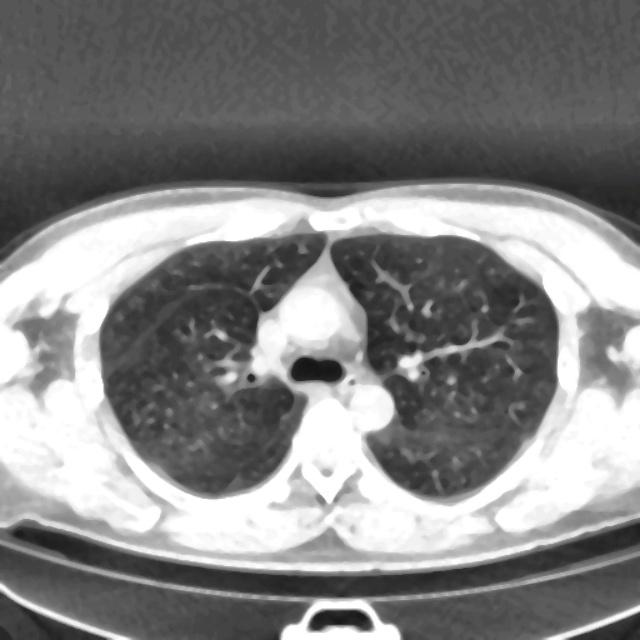covid: (0, 178, 639, 575)
